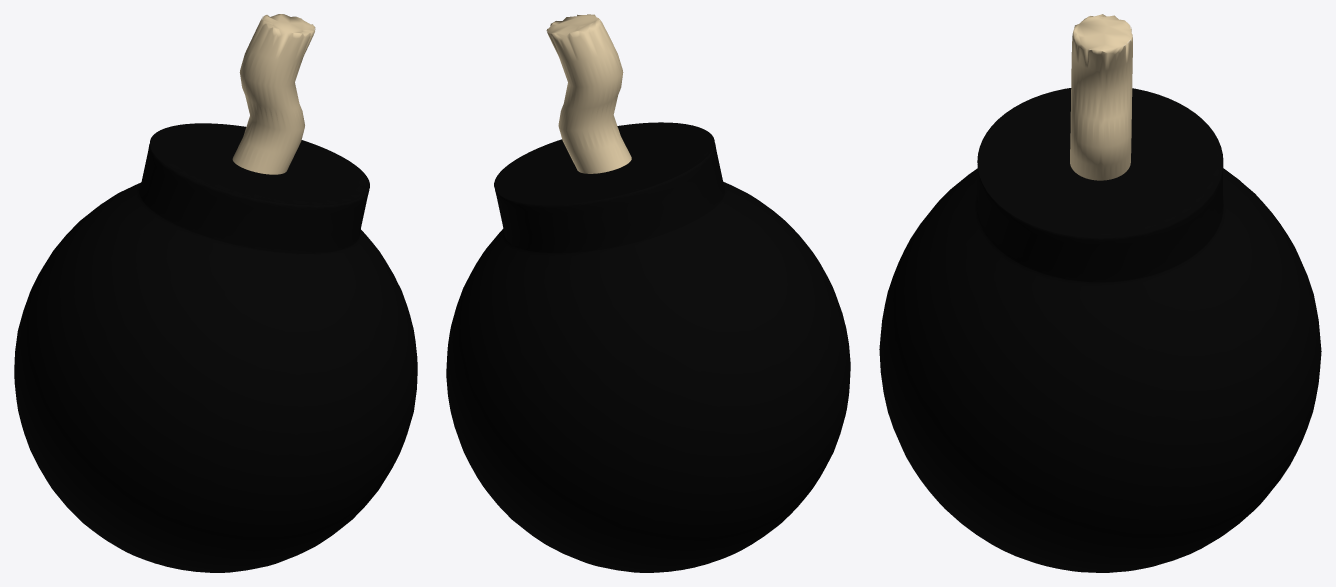
File: bomb1.gltf
The picture shows the model from 3 angles, left to right: view 1: azimuth 30°, elevation 25°; view 2: azimuth 150°, elevation 25°; view 3: azimuth 270°, elevation 25°; orthographic projection. The views are drawn at different scales.
Visible parts, largest first — view 1: Bomb; view 2: Bomb; view 3: Bomb.
Boxes of the visible parts, left/top/right/bottom form: Bomb: left=14, top=14, right=417, bottom=572; Bomb: left=446, top=14, right=850, bottom=572; Bomb: left=879, top=14, right=1321, bottom=572.
Bounding box in the file's own units: 1.36 × 1.92 × 1.36.
